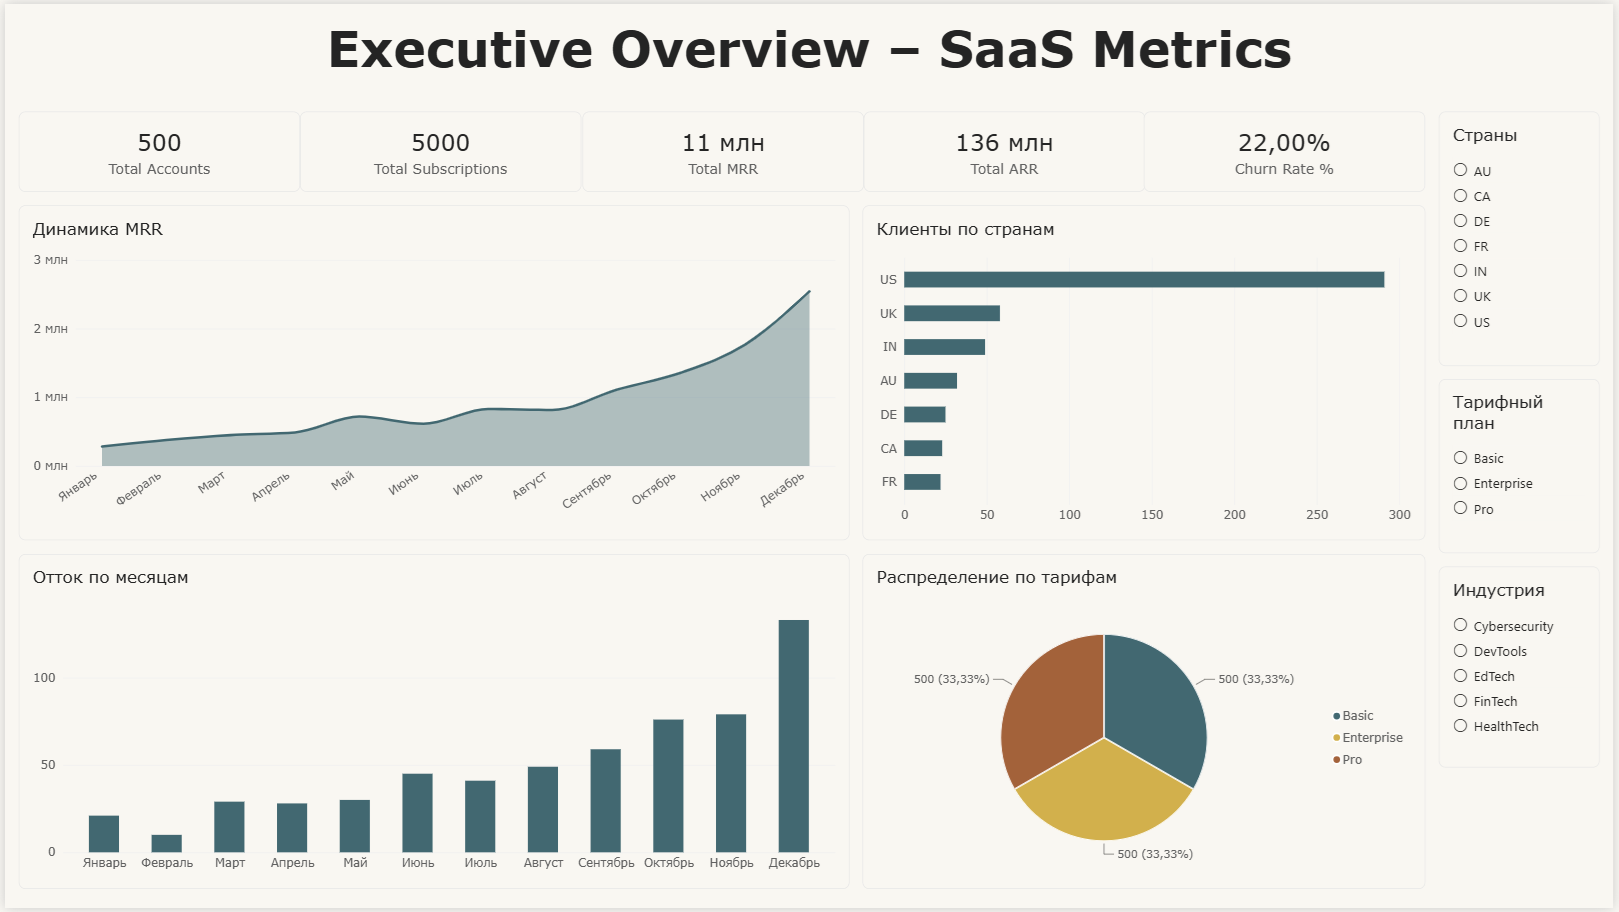

The page's visual inventory and layout, read from the dashboard file:
{"tool":"powerbi","page":{"name":"Executive Overview","canvas":[1920,1080],"ordinal":0},"visuals":[{"type":"card","fields":{"Values":["accounts.Total Accounts"]},"box":[16,128,336.4,96],"z":0},{"type":"listSlicer","title":"Тарифный план","fields":{"Values":["accounts.plan_tier"]},"box":[1712,448,192,208],"z":0,"group":"g1"},{"type":"listSlicer","title":"Страны","fields":{"Values":["accounts.country"]},"box":[1712,128,192,304],"z":1000,"group":"g1"},{"type":"areaChart","title":"Динамика MRR","fields":{"Category":["subscriptions.start_date.Изменение.Иерархия дат.Месяц"],"Y":["subscriptions.Total MRR"]},"box":[16,240,992,400],"z":1000},{"type":"card","fields":{"Values":["subscriptions.Total Subscriptions"]},"box":[352.6,128,336.4,96],"z":2000},{"type":"listSlicer","title":"Индустрия","fields":{"Values":["accounts.industry"]},"box":[1712,672,192,240],"z":2000,"group":"g1"},{"type":"pieChart","title":"Распределение по тарифам","fields":{"Category":["subscriptions.plan_tier"],"Y":["accounts.Total Accounts"]},"box":[1024,656,672,400],"z":3000},{"type":"card","fields":{"Values":["subscriptions.Total MRR"]},"box":[688.9,128,336.4,96],"z":4000},{"type":"clusteredColumnChart","title":"Отток по месяцам","fields":{"Category":["churn_events.churn_date.Изменение.Иерархия дат.Месяц"],"Y":["CountNonNull(churn_events.churn_event_id)"]},"box":[16,656,992,400],"z":5000},{"type":"card","fields":{"Values":["subscriptions.Total ARR"]},"box":[1025.2,128,336.3,96],"z":6000},{"type":"barChart","title":"Клиенты по странам","fields":{"Category":["accounts.country"],"Y":["accounts.Total Accounts"]},"box":[1024,240,672,400],"z":7000},{"type":"card","fields":{"Values":["subscriptions.Churn Rate %"]},"box":[1359.6,128,336.4,96],"z":8000},{"type":"textbox","box":[16,16,1888,96],"z":9000},{"type":"group","id":"g1","title":"Группа 1","box":[1712,128,192,784],"z":10000}]}

Visuals, with their boxes in screenshot pixels (x1, y1, x2, y2), scaled from the page's 1920x1080 canvas onto the 1619x912 screenshot:
card - accounts.Total Accounts: rect(13, 108, 297, 189)
"Тарифный план" listSlicer: rect(1444, 378, 1606, 554)
"Страны" listSlicer: rect(1444, 108, 1606, 365)
"Динамика MRR" areaChart: rect(13, 203, 850, 540)
card - subscriptions.Total Subscriptions: rect(297, 108, 581, 189)
"Индустрия" listSlicer: rect(1444, 567, 1606, 770)
"Распределение по тарифам" pieChart: rect(863, 554, 1430, 892)
card - subscriptions.Total MRR: rect(581, 108, 865, 189)
"Отток по месяцам" clusteredColumnChart: rect(13, 554, 850, 892)
card - subscriptions.Total ARR: rect(864, 108, 1148, 189)
"Клиенты по странам" barChart: rect(863, 203, 1430, 540)
card - subscriptions.Churn Rate %: rect(1146, 108, 1430, 189)
textbox: rect(13, 14, 1606, 95)
"Группа 1" group: rect(1444, 108, 1606, 770)
